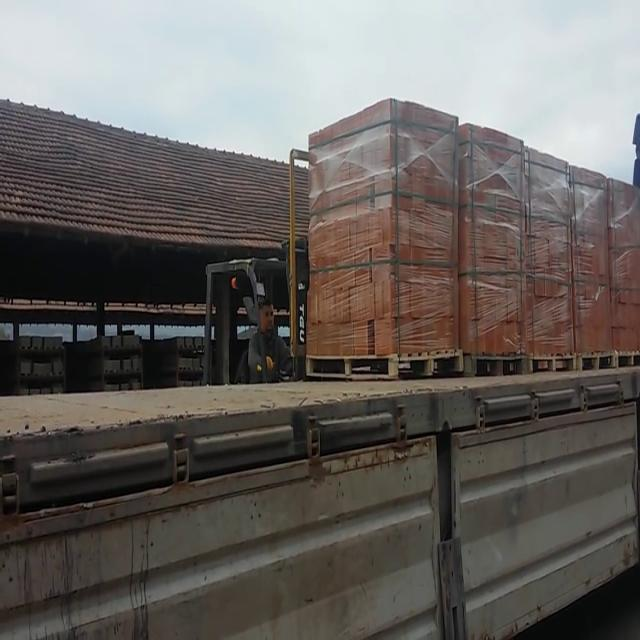forklift: (205, 257, 300, 385)
